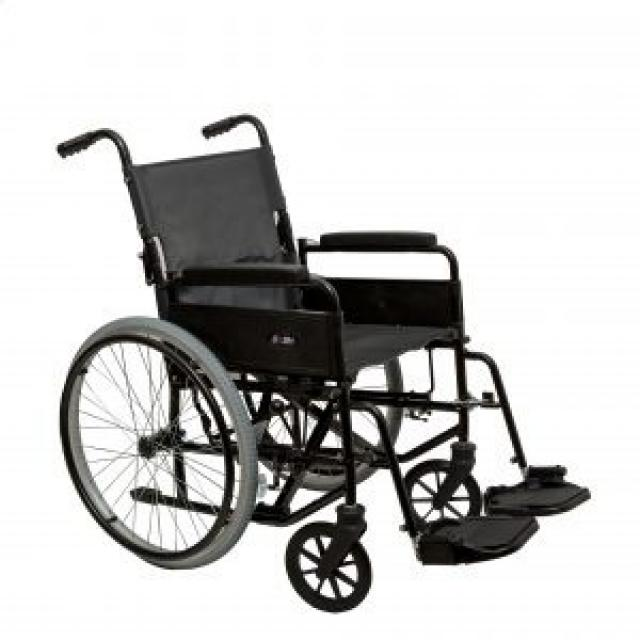wheelchair: (50, 98, 596, 632)
